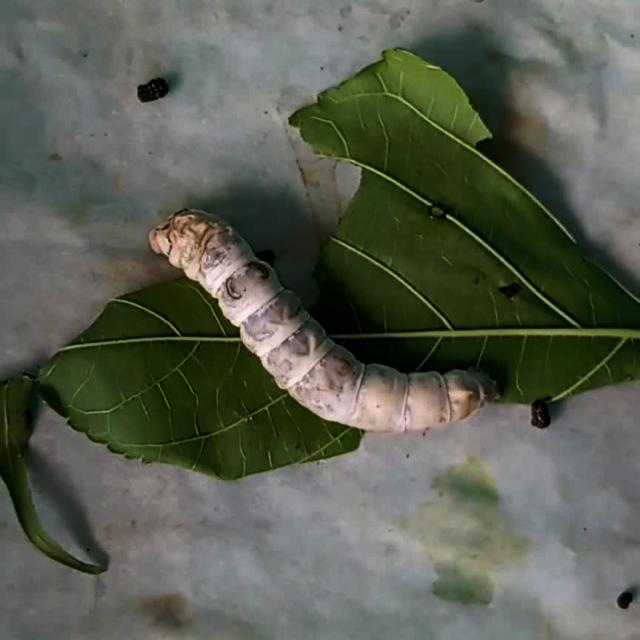Grasserie: (134, 189, 506, 444)
